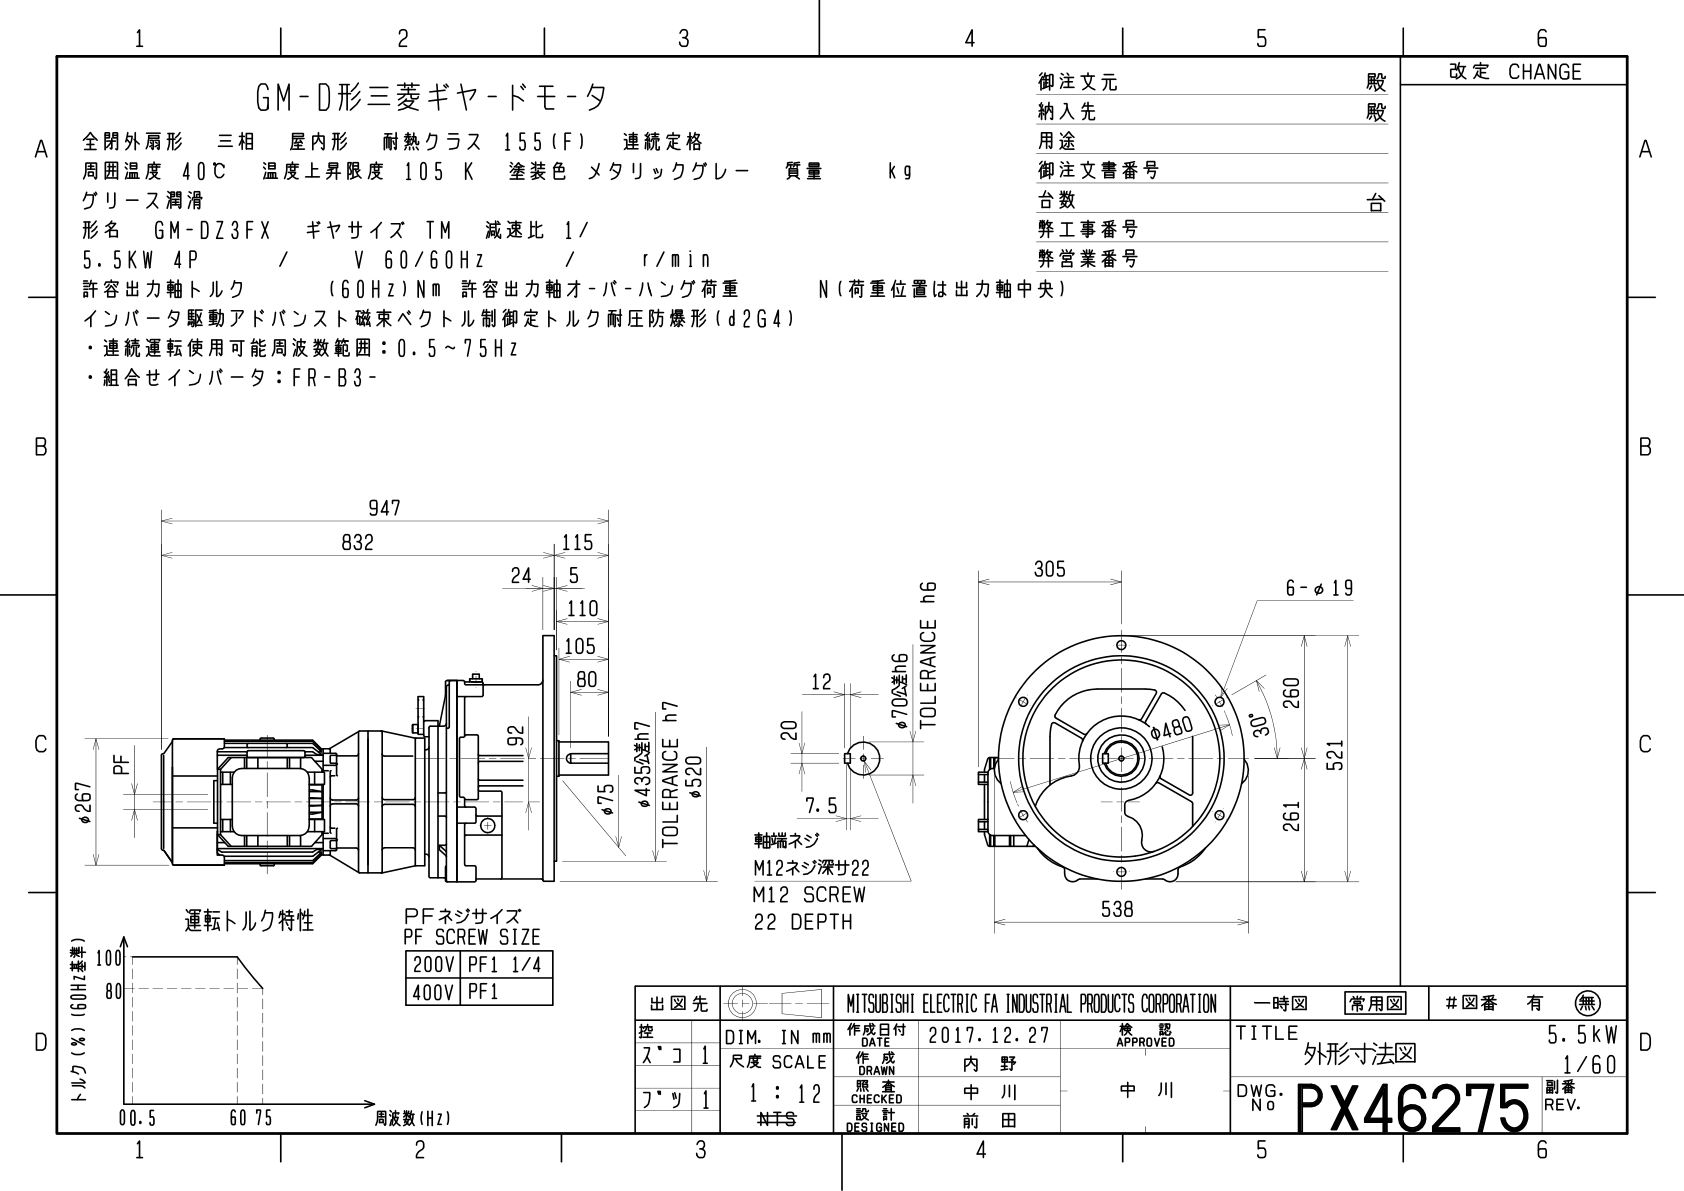GM_D_制御屋内_三相_フランジ: (8, 12, 1684, 1191)
